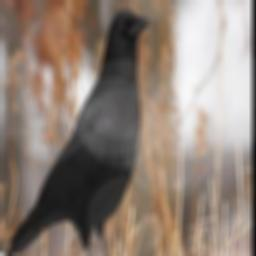Crow: (2, 1, 151, 256)
